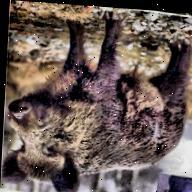boar: (7, 1, 192, 192)
